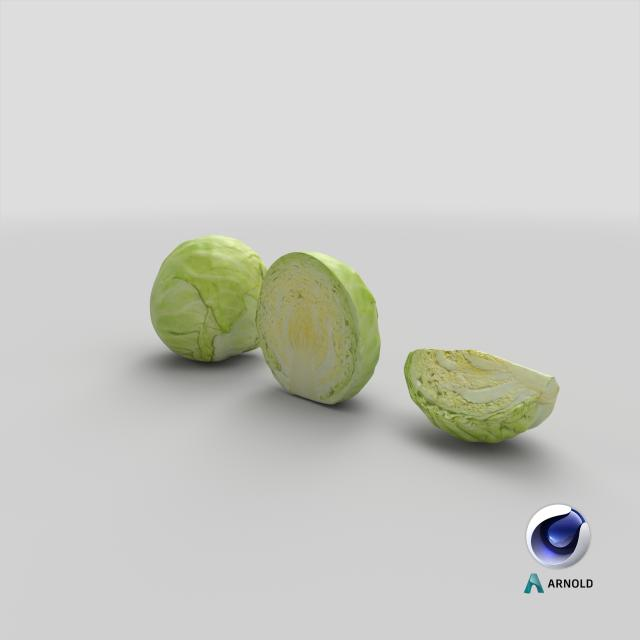cabbage: (146, 234, 279, 366)
haft-cabbage: (252, 248, 380, 408), (402, 342, 560, 444)
